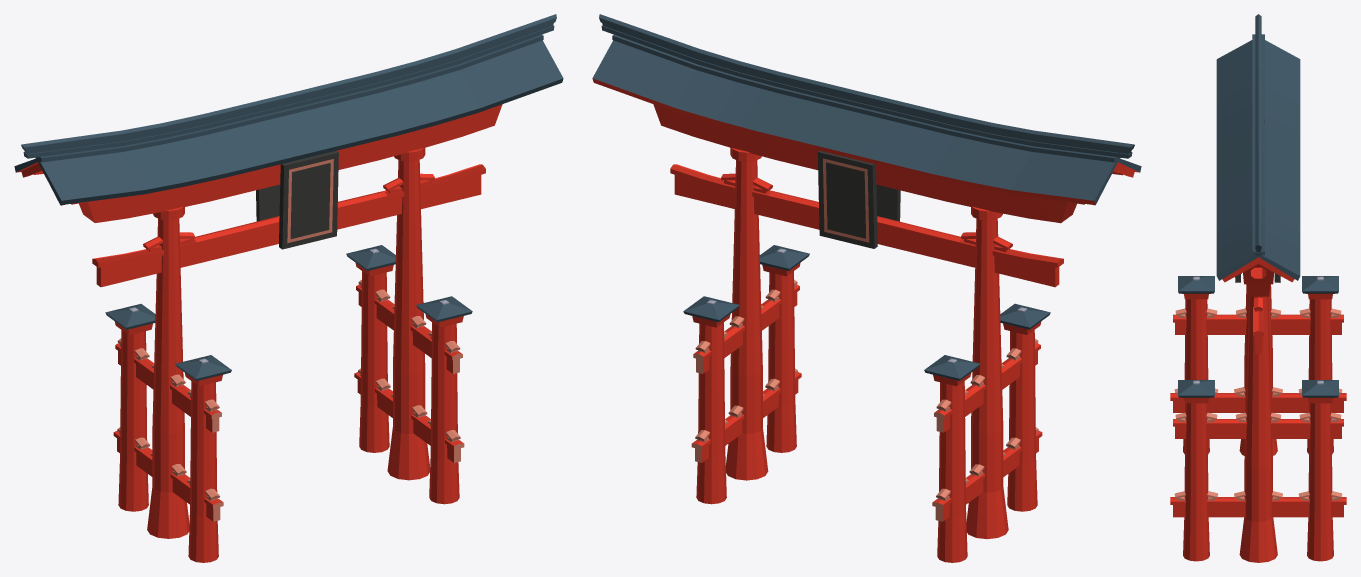
File: dibiao_niaoju.fbx
The picture shows the model from 3 angles, left to right: view 1: azimuth 30°, elevation 25°; view 2: azimuth 150°, elevation 25°; view 3: azimuth 270°, elevation 25°; orthographic projection. The views are drawn at different scales.
Visible parts, largest first — view 1: dibiao_niaoju; view 2: dibiao_niaoju; view 3: dibiao_niaoju.
Part boxes in pixels (x1=…): dibiao_niaoju: x1=14, y1=14, x2=563, y2=562; dibiao_niaoju: x1=592, y1=14, x2=1141, y2=562; dibiao_niaoju: x1=1170, y1=14, x2=1346, y2=562.
Size of the model in its own units: 1745 by 562 by 1317.
